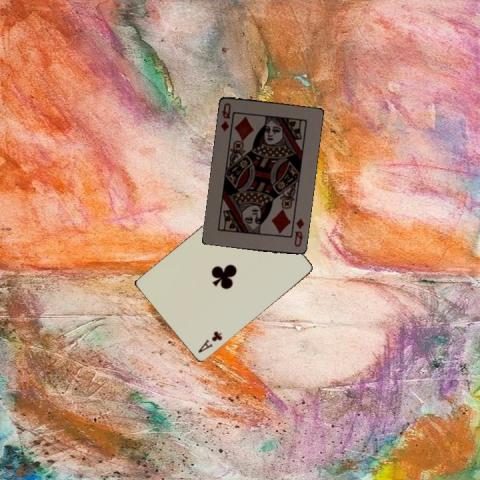Ac: (195, 328, 224, 354)
Qd: (217, 100, 232, 133), (292, 215, 305, 248)
